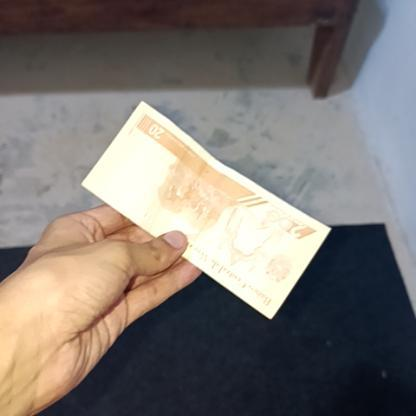twenty-back-vef: (81, 101, 332, 321)
